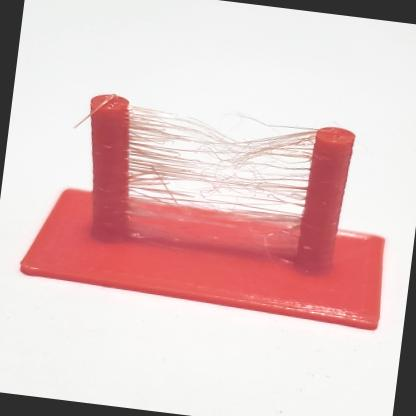fail: (120, 104, 316, 216)
